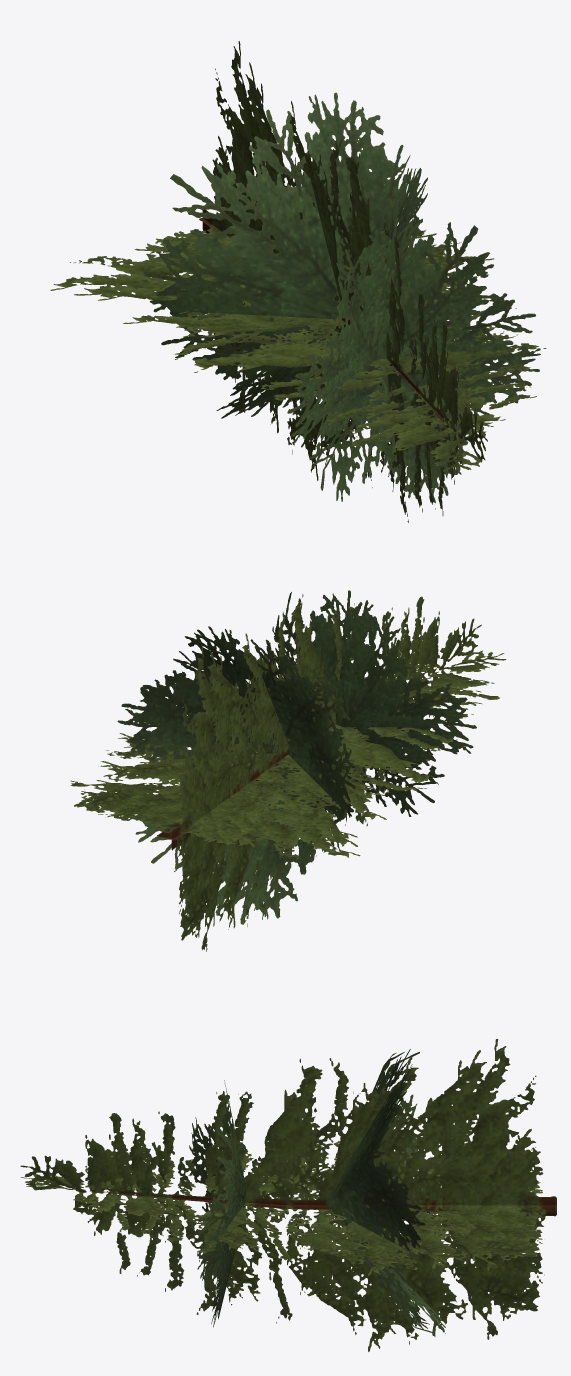
Rendered from plant_small_01.obj.
The picture shows the model from 3 angles, top to bottom: view 1: azimuth 30°, elevation 25°; view 2: azimuth 150°, elevation 25°; view 3: azimuth 270°, elevation 25°; orthographic projection. The views are drawn at different scales.
Visible parts, largest first — view 1: plant_small_01; view 2: plant_small_01; view 3: plant_small_01.
Part boxes in pixels (x1=…): plant_small_01: x1=50, y1=41, x2=546, y2=522; plant_small_01: x1=70, y1=590, x2=506, y2=951; plant_small_01: x1=20, y1=1039, x2=556, y2=1351.
Bounding box in the file's own units: 3.61 × 3.61 × 5.51.
Materials: 1 (1 with a texture image).
